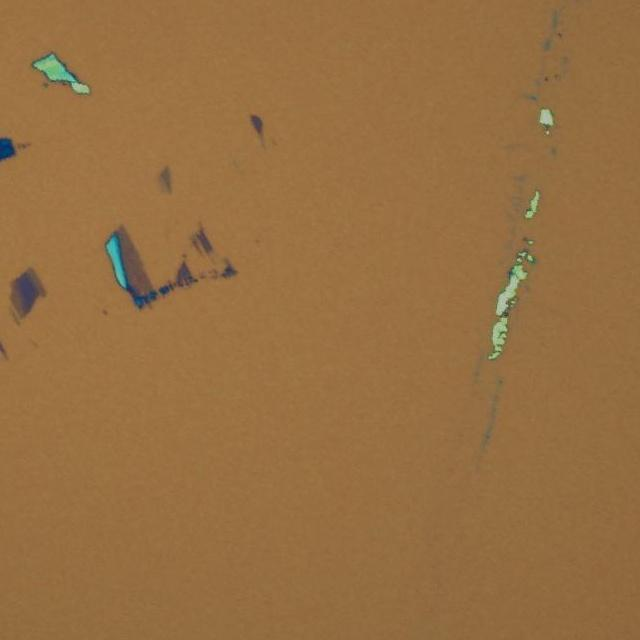monolayer-eWW4: (116, 223, 154, 296), (0, 280, 24, 317), (28, 268, 46, 298), (160, 166, 172, 194)
